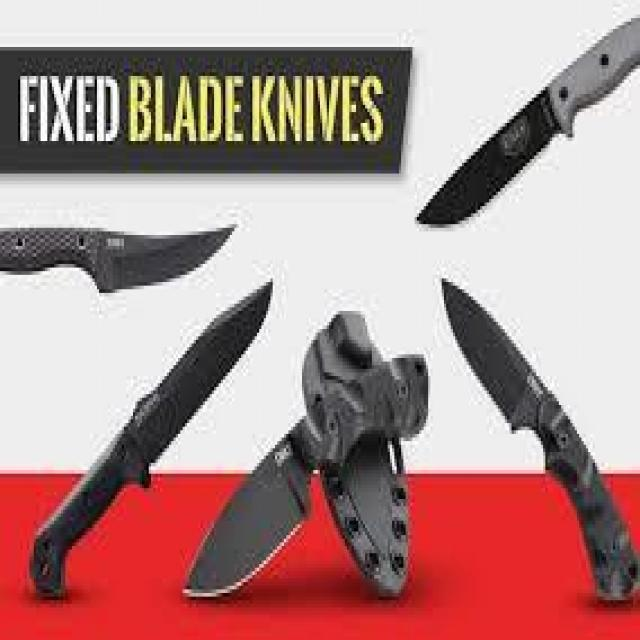Knife: (29, 275, 271, 594), (440, 274, 640, 598), (180, 328, 427, 580), (414, 3, 638, 230), (0, 220, 238, 296)
